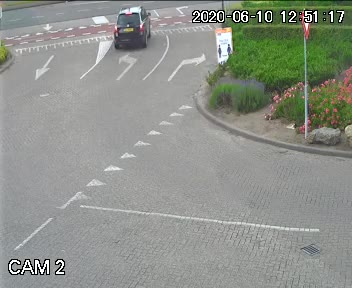car: (110, 1, 153, 54)
